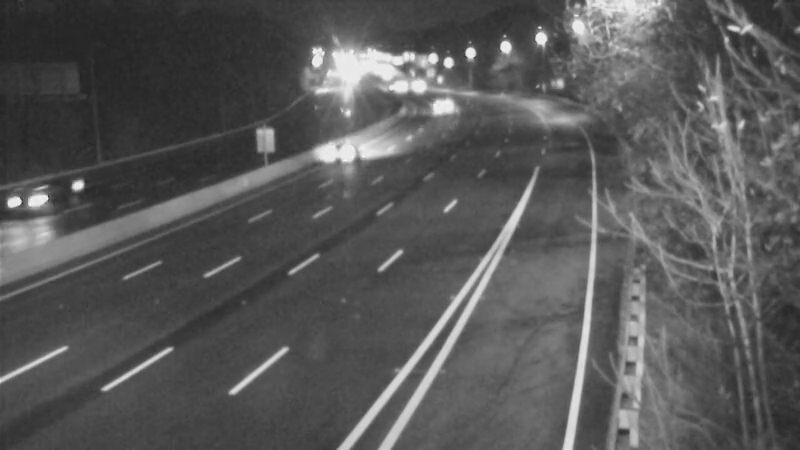vehicle: (7, 164, 87, 244), (422, 78, 472, 128), (334, 118, 384, 168)
